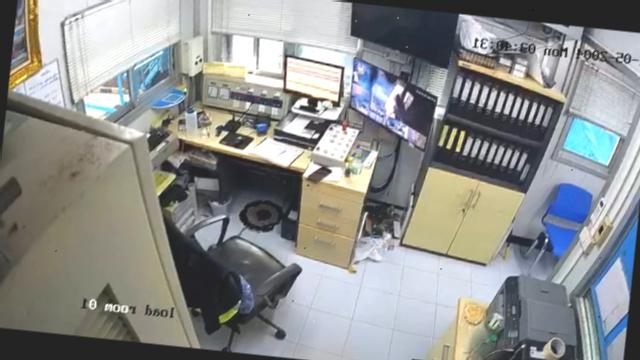Phone: (306, 165, 334, 182)
